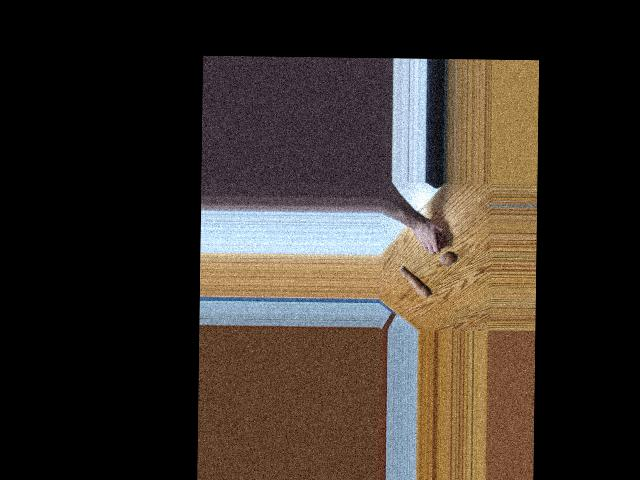onion: (440, 251, 451, 265)
